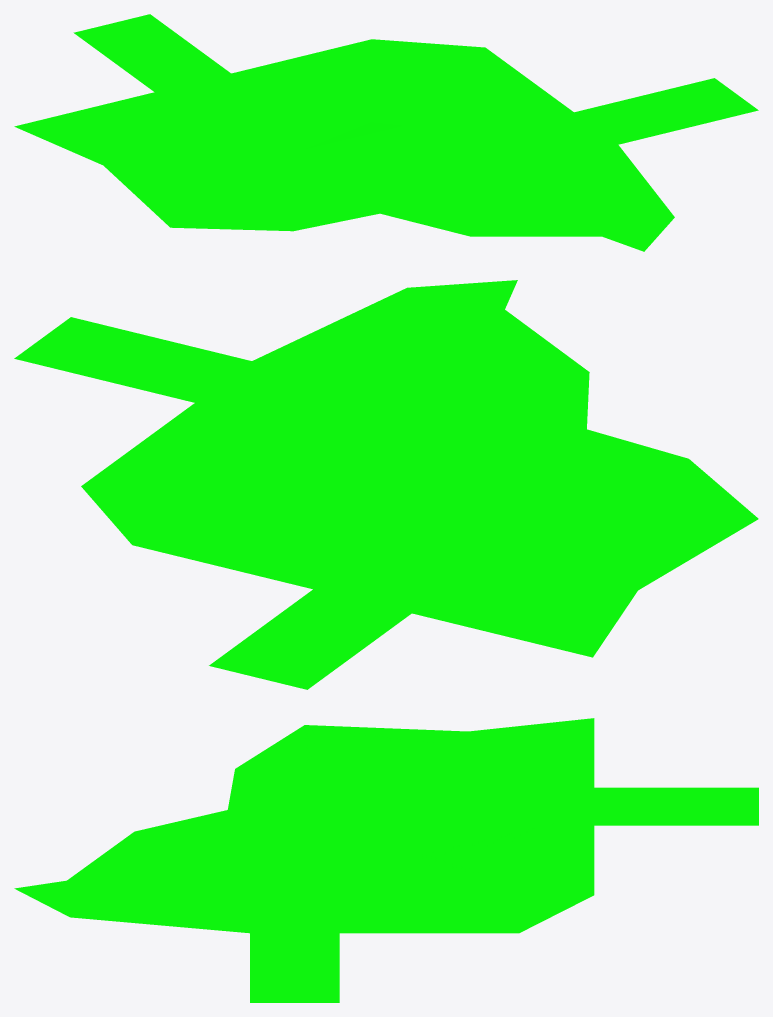
Rendered from s05a_lb3-floor.glb.
3 renders of one model, top to bottom at view 1: azimuth 30°, elevation 25°; view 2: azimuth 150°, elevation 25°; view 3: azimuth 270°, elevation 25°, orthographic. The views are drawn at different scales.
Parts seen in each view (by area): view 1: collision_floor-colonly; view 2: collision_floor-colonly; view 3: collision_floor-colonly.
Part boxes in pixels (<box>): collision_floor-colonly: <box>14,14,758,251</box>; collision_floor-colonly: <box>14,280,758,689</box>; collision_floor-colonly: <box>14,718,758,1002</box>.
Bounding box in the file's own units: 45 × 0.00781 × 49.75.
